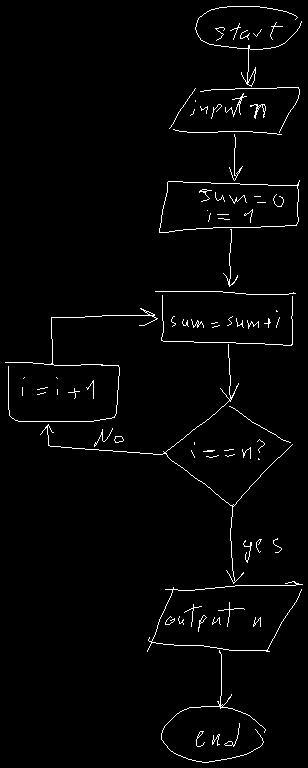arrow: (51, 308, 157, 363), (40, 424, 166, 454), (226, 504, 243, 583), (220, 344, 238, 401), (217, 650, 231, 708), (223, 229, 237, 286), (229, 134, 242, 180), (241, 45, 255, 86)
data: (147, 581, 302, 651), (169, 87, 299, 134)
decision: (161, 400, 292, 506)
process: (155, 291, 295, 345), (159, 180, 299, 232), (5, 362, 119, 421)
terminator: (161, 706, 265, 762), (195, 6, 301, 49)
text: (199, 189, 283, 222), (165, 602, 260, 631), (171, 310, 279, 328), (190, 93, 265, 118), (22, 377, 93, 398), (191, 439, 264, 459), (215, 22, 282, 40), (196, 723, 239, 746), (243, 538, 281, 562), (94, 428, 123, 446)
